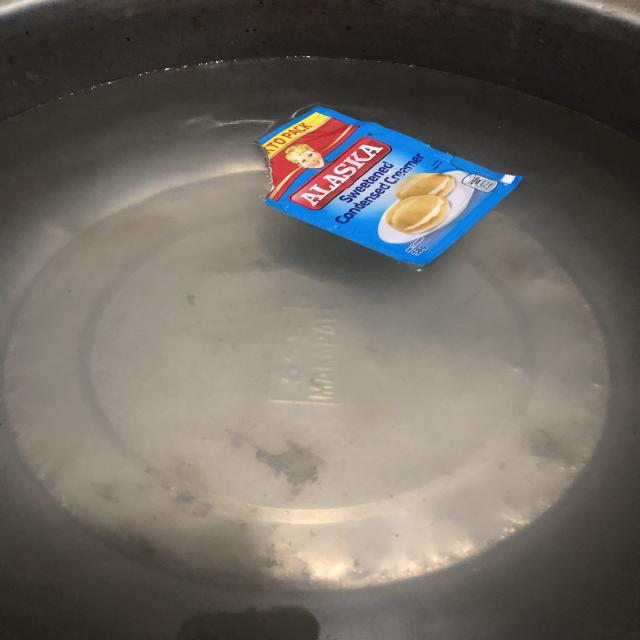Plastic Wrapper: (233, 97, 524, 274)
